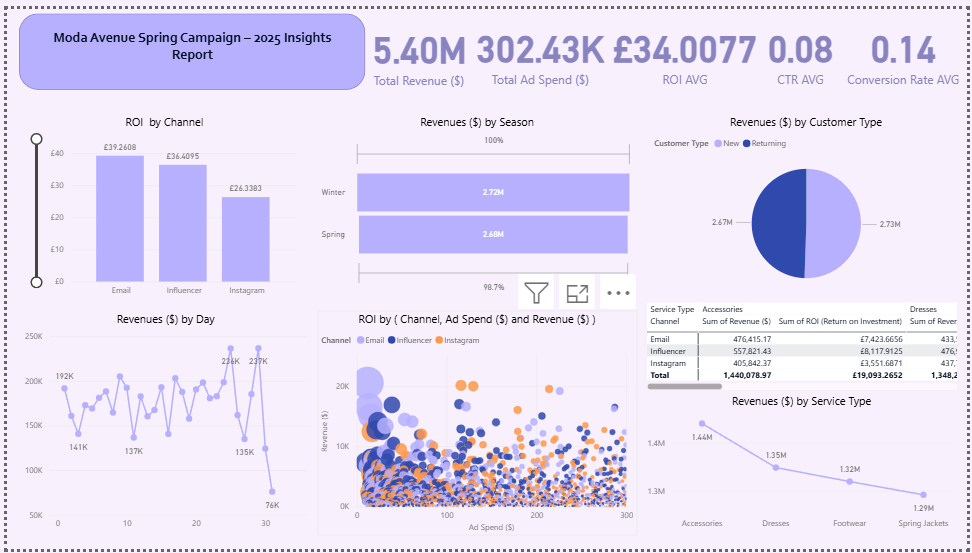

The dashboard page shown, as its layout file describes it:
{"tool":"powerbi","page":{"name":"Spring Campaign Performance Dashboard","canvas":[1280,720],"ordinal":0},"visuals":[{"type":"card","fields":{"Values":["Sum(Campaign_Data.Revenue ($))"]},"box":[478.3,1.7,141.7,115],"z":0},{"type":"card","fields":{"Values":["Sum(Campaign_Data.Ad Spend ($))"]},"box":[620,0,181.7,116.7],"z":1000},{"type":"card","fields":{"Values":["Avg(Campaign_Data.ROI (Return on Investment))"]},"box":[801.7,0,203.3,116.7],"z":2000},{"type":"card","fields":{"Values":["Avg(Campaign_Data.CTR (Click Through Rate))"]},"box":[1005,0,103.3,116.7],"z":3000},{"type":"card","fields":{"Values":["Avg(Campaign_Data.Conversion Rate)"]},"box":[1108.3,0,173.3,116.7],"z":4000},{"type":"columnChart","title":"ROI  by Channel","fields":{"Category":["Campaign_Data.Channel"],"Y":["Avg(Campaign_Data.ROI (Return on Investment))"]},"box":[27.7,140.4,363.8,251.1],"z":5000},{"type":"funnel","title":"Revenues ($) by Season","fields":{"Category":["Campaign_Data.Season"],"Y":["Sum(Campaign_Data.Revenue ($))"]},"box":[414.9,140.4,425.5,244.7],"z":6000},{"type":"pieChart","title":"Revenues ($) by Customer Type","fields":{"Category":["Campaign_Data.Customer Type"],"Y":["Sum(Campaign_Data.Revenue ($))"]},"box":[857.4,140.4,414.9,244.7],"z":7000},{"type":"lineChart","title":"Revenues ($) by Day","fields":{"Y":["Sum(Campaign_Data.Revenue ($))"],"Category":["Campaign_Data.Date.Variation.Date Hierarchy.Day"]},"box":[17,402.1,387.2,300],"z":8000},{"type":"scatterChart","title":" ROI by ( Channel, Ad Spend ($) and Revenue ($) )","fields":{"X":["Campaign_Data.Ad Spend ($)"],"Y":["Campaign_Data.Revenue ($)"],"Size":["Sum(Campaign_Data.ROI (Return on Investment))"],"Series":["Campaign_Data.Channel"]},"box":[414.9,402.1,425.5,300],"z":9000},{"type":"pivotTable","fields":{"Rows":["Campaign_Data.Channel"],"Columns":["Campaign_Data.Service Type"],"Values":["Sum(Campaign_Data.Revenue ($))","Sum(Campaign_Data.ROI (Return on Investment))"]},"box":[848.3,385,423.3,126.7],"z":10000},{"type":"lineChart","title":"Revenues ($) by Service Type","fields":{"Category":["Campaign_Data.Service Type"],"Y":["Sum(Campaign_Data.Revenue ($))"]},"box":[848,512,423,190],"z":11000},{"type":"shape","box":[16.7,6.7,461.7,101.7],"z":12000},{"type":"textbox","box":[28.3,20,438.3,56.7],"z":13000}]}

Visuals, with their boxes in screenshot pixels (x1, y1, x2, y2), scaled from the page's 1280x720 canvas onto the 972x553 screenshot:
card - Sum(Campaign_Data.Revenue ($)): (363, 1, 471, 90)
card - Sum(Campaign_Data.Ad Spend ($)): (471, 0, 609, 90)
card - Avg(Campaign_Data.ROI (Return on Investment)): (609, 0, 763, 90)
card - Avg(Campaign_Data.CTR (Click Through Rate)): (763, 0, 842, 90)
card - Avg(Campaign_Data.Conversion Rate): (842, 0, 971, 90)
"ROI  by Channel" columnChart: (21, 108, 297, 301)
"Revenues ($) by Season" funnel: (315, 108, 638, 296)
"Revenues ($) by Customer Type" pieChart: (651, 108, 966, 296)
"Revenues ($) by Day" lineChart: (13, 309, 307, 539)
" ROI by ( Channel, Ad Spend ($) and Revenue ($) )" scatterChart: (315, 309, 638, 539)
pivotTable - Campaign_Data.Channel x Campaign_Data.Service Type: (644, 296, 966, 393)
"Revenues ($) by Service Type" lineChart: (644, 393, 965, 539)
shape: (13, 5, 363, 83)
textbox: (21, 15, 354, 59)
